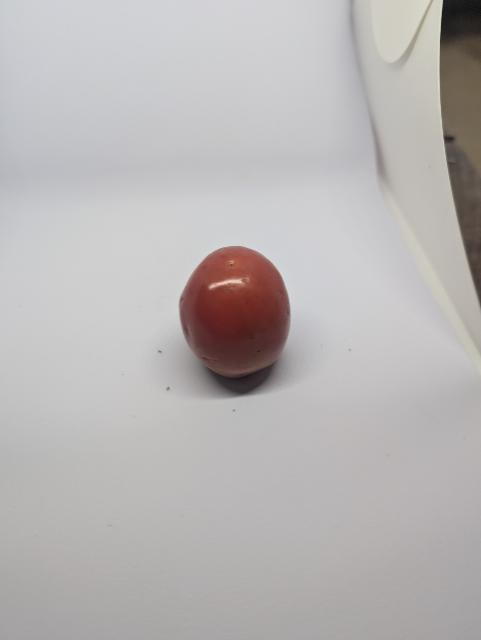red: (177, 245, 296, 380)
